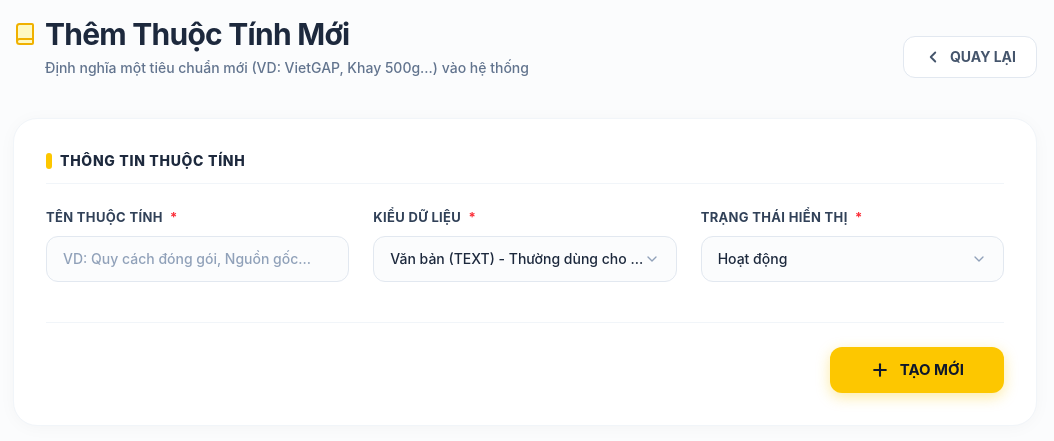
Module 04 - AttributeDefinitionForm Component › TC03 - Báo lỗi trùng lặp tên thuộc tính ngay trên giao diện
Check: the heading "Thêm Thuộc Tính Mới" is shown, box [45,16,349,52]
Type "độ ngọt (brix)" into the field with placeholder "VD: Quy cách đóng gói, Nguồn gốc..." at (198, 258), box [46,236,349,282]
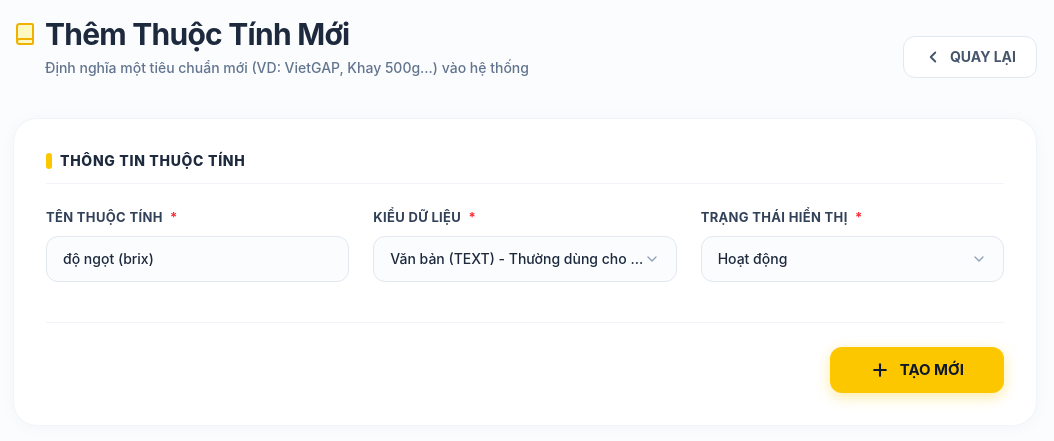
Click the button "TẠO MỚI" at (917, 370), box [830,346,1004,393]
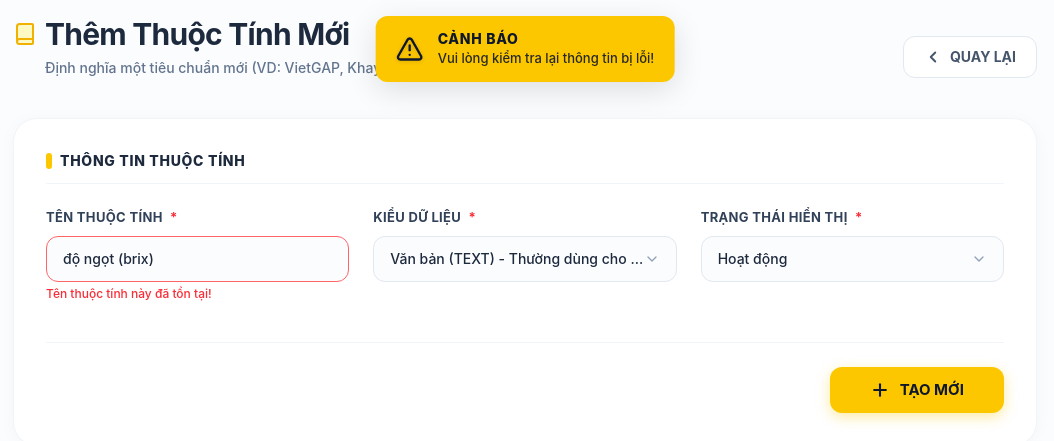
Check: the text "Tên thuộc tính này đã tồn tại!" is shown, box [46,286,212,300]
